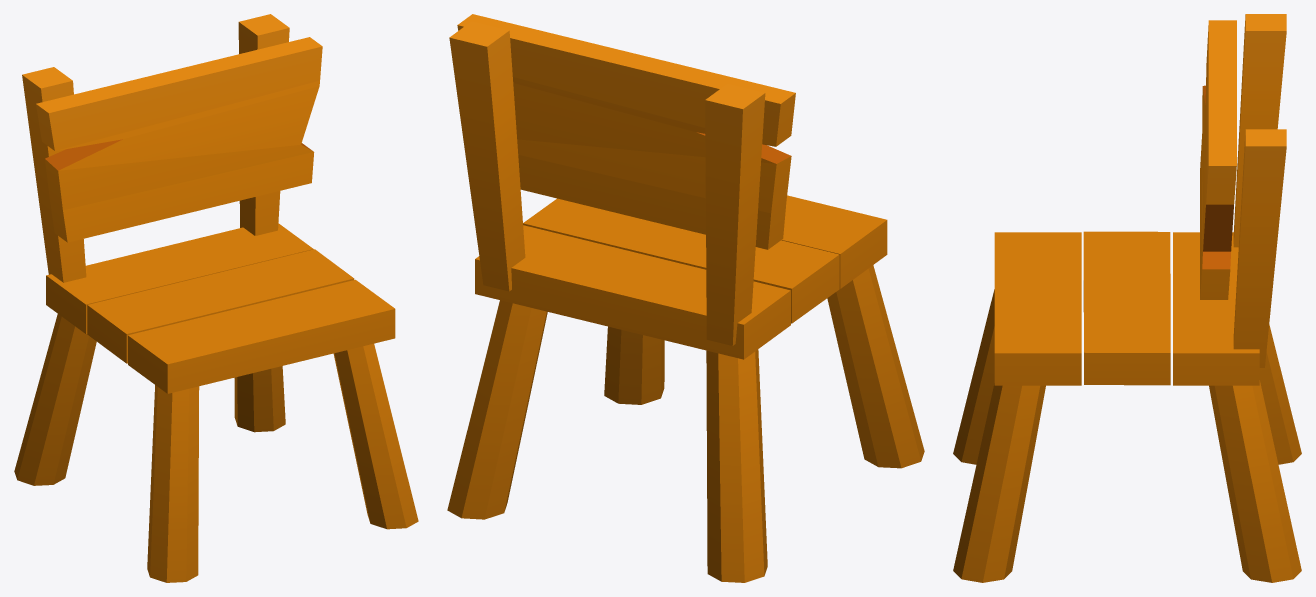
File: Furnitur_Chair_01.glb
3 renders of one model, left to right at view 1: azimuth 30°, elevation 25°; view 2: azimuth 150°, elevation 25°; view 3: azimuth 270°, elevation 25°, orthographic. The views are drawn at different scales.
Visible parts, largest first — view 1: Furnitur_Chair_01; view 2: Furnitur_Chair_01; view 3: Furnitur_Chair_01.
Boxes of the visible parts, <box> form: Furnitur_Chair_01: <box>14,14,418,582</box>; Furnitur_Chair_01: <box>447,14,924,582</box>; Furnitur_Chair_01: <box>953,14,1301,582</box>.
Size of the model in its own units: 0.7345 by 1.01 by 0.7366.
1 material, 1 textured.
